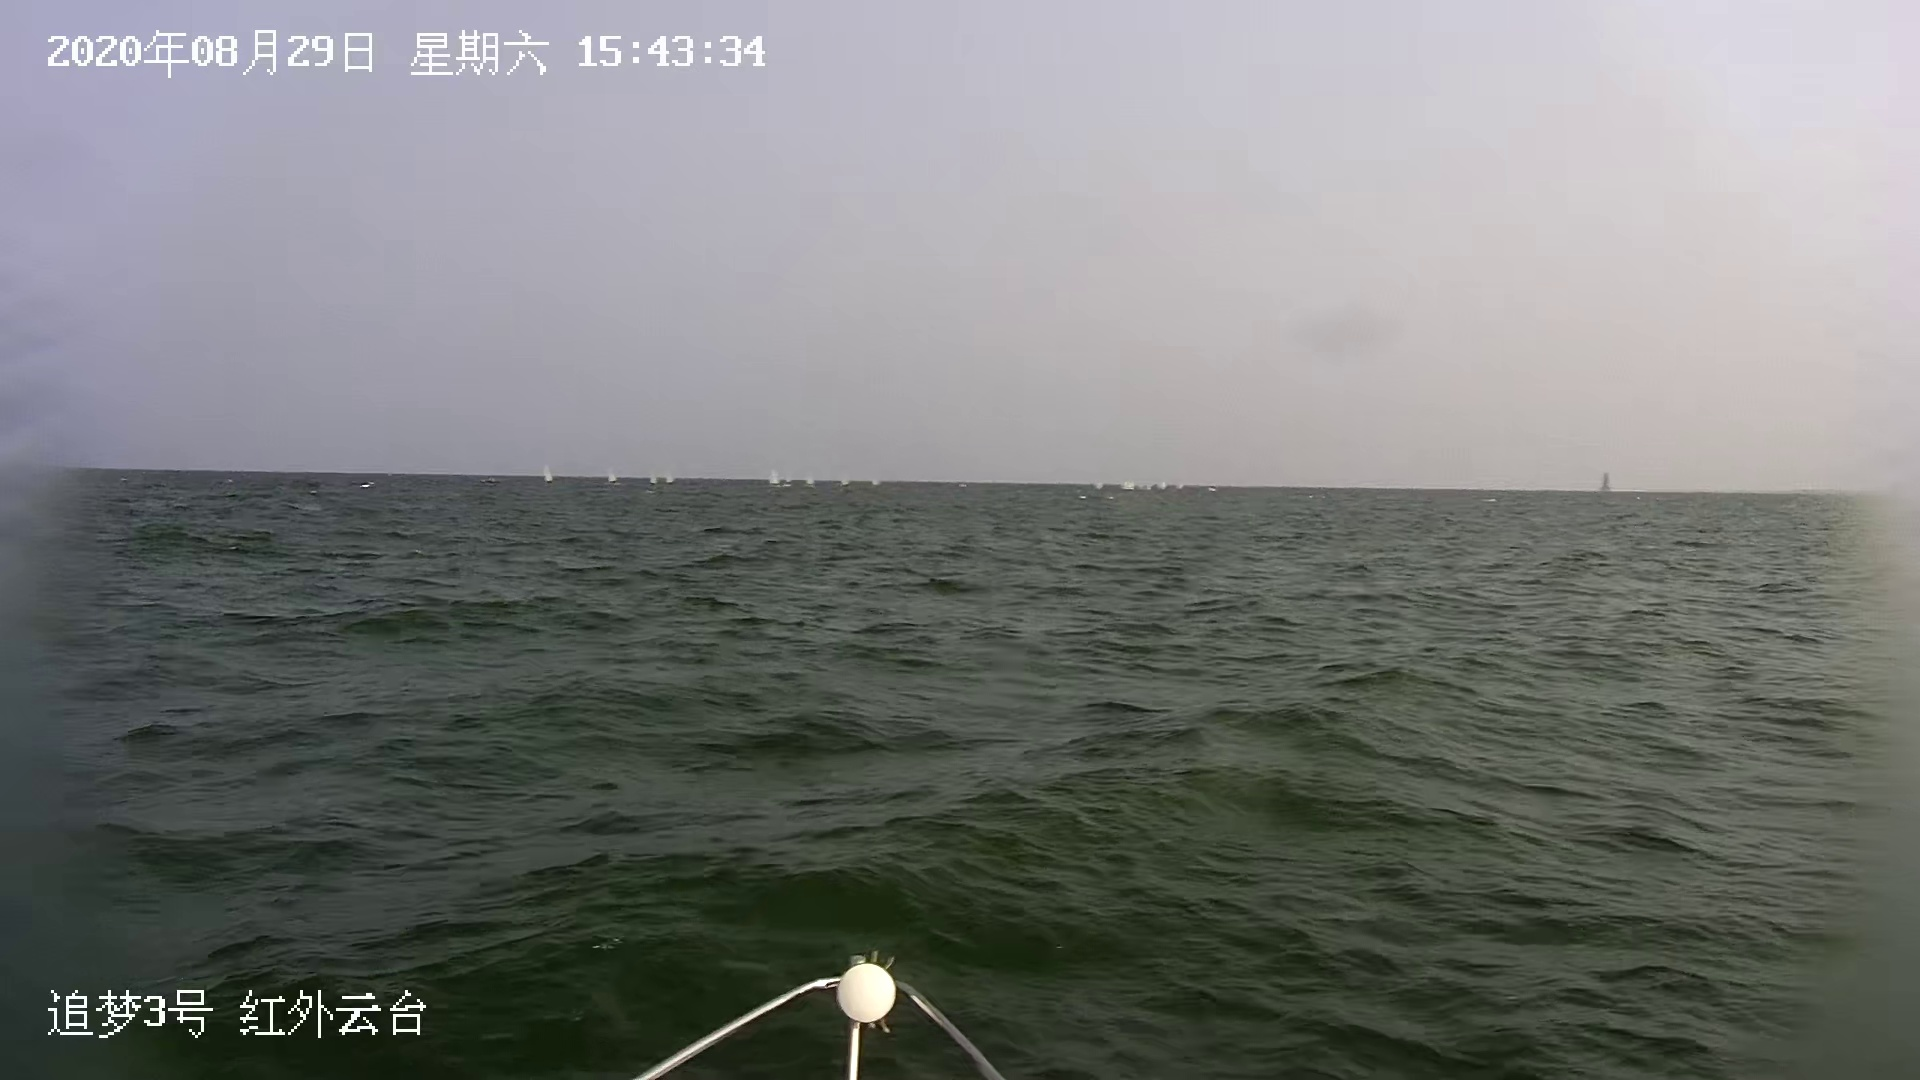barrier: (1600, 468, 1613, 495), (769, 465, 782, 488), (607, 465, 620, 487), (1120, 477, 1137, 492), (545, 464, 555, 487), (806, 469, 818, 489), (665, 468, 676, 485), (647, 468, 657, 489), (785, 473, 796, 488), (1156, 479, 1168, 493), (868, 477, 884, 488), (1139, 480, 1153, 492), (1095, 479, 1104, 491), (1176, 483, 1185, 492), (841, 479, 851, 487), (1209, 484, 1217, 493)
